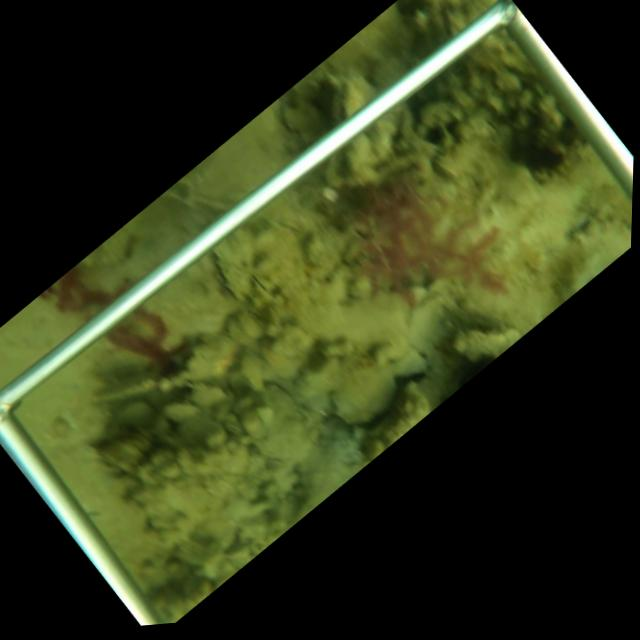Oyster-Closed: (211, 248, 252, 303)
